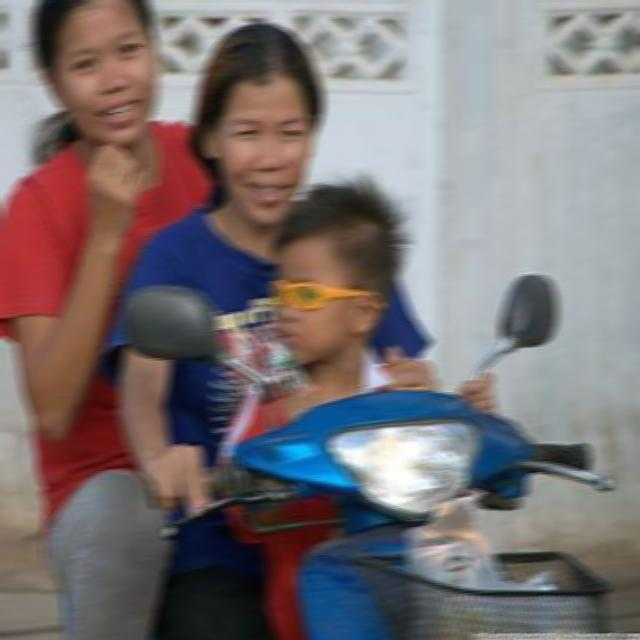Without Helmet: (180, 17, 332, 234), (273, 179, 410, 359), (18, 0, 173, 154)
